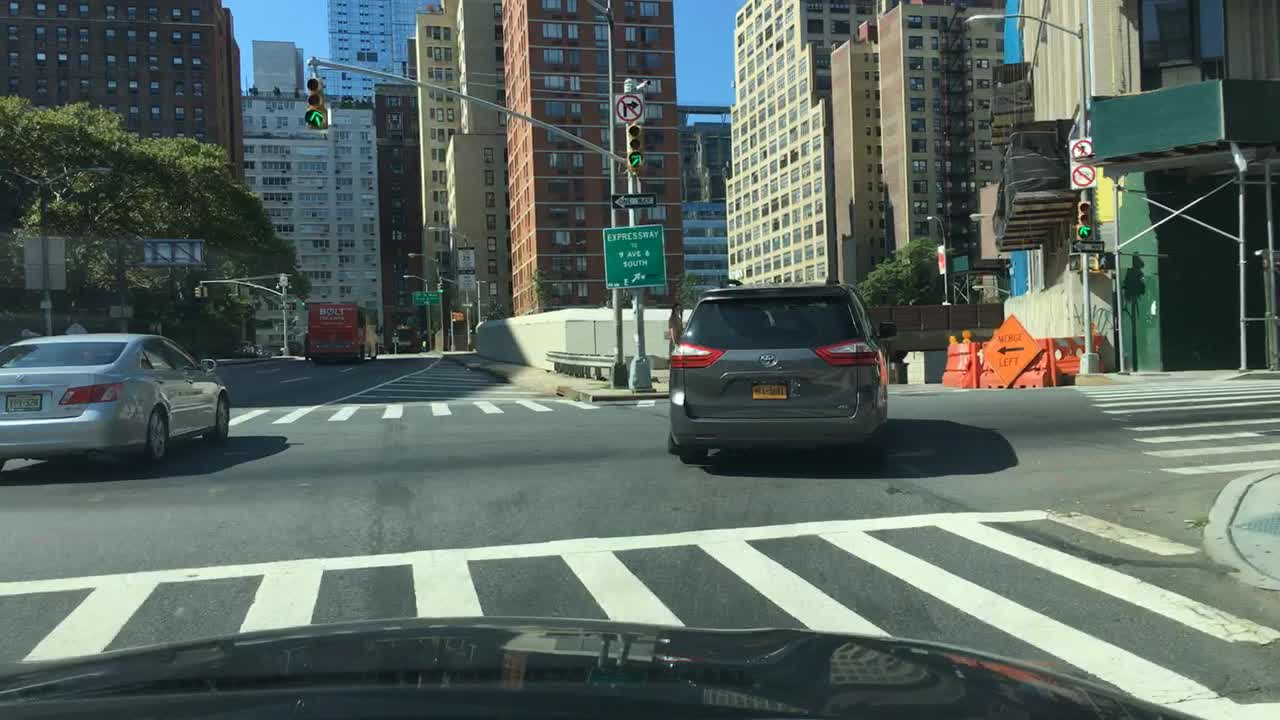car: (667, 281, 896, 465), (0, 331, 233, 470)
person: (665, 302, 683, 353)
traffic light: (302, 75, 325, 128), (625, 126, 641, 167), (1076, 200, 1092, 239), (1090, 250, 1113, 273), (1066, 255, 1080, 273), (447, 307, 462, 322), (437, 277, 446, 291), (191, 286, 199, 299), (201, 286, 208, 300)
traffic sign: (981, 316, 1047, 390), (603, 227, 664, 290), (23, 234, 67, 289), (143, 242, 205, 264), (614, 95, 641, 124), (607, 195, 656, 208), (1072, 165, 1102, 185), (1071, 140, 1099, 160), (1070, 239, 1103, 253), (455, 245, 476, 266), (457, 266, 476, 288), (413, 291, 442, 305), (106, 305, 134, 318), (935, 245, 948, 272), (273, 300, 295, 312), (952, 257, 972, 270), (455, 300, 474, 309)
truck: (305, 299, 381, 369)
